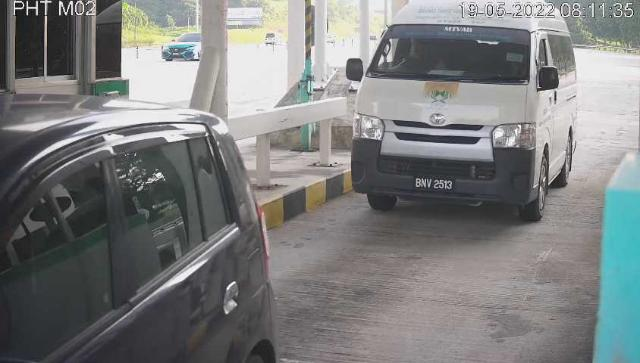License_Plate: (413, 174, 457, 196)
van: (353, 1, 578, 223)
